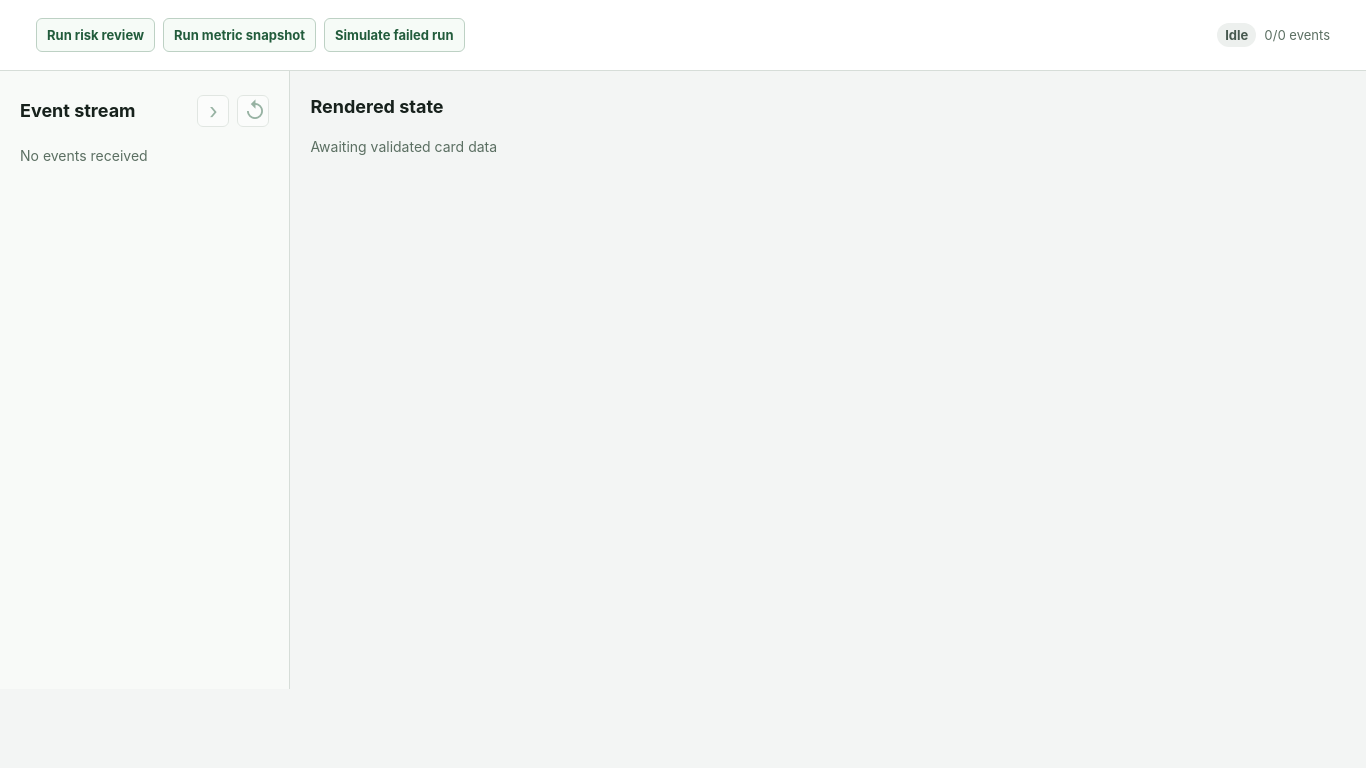
it: StreamConsole › shows completed and failed terminal states
Click the button "Run metric snapshot" at (240, 35), box [163,18,316,52]
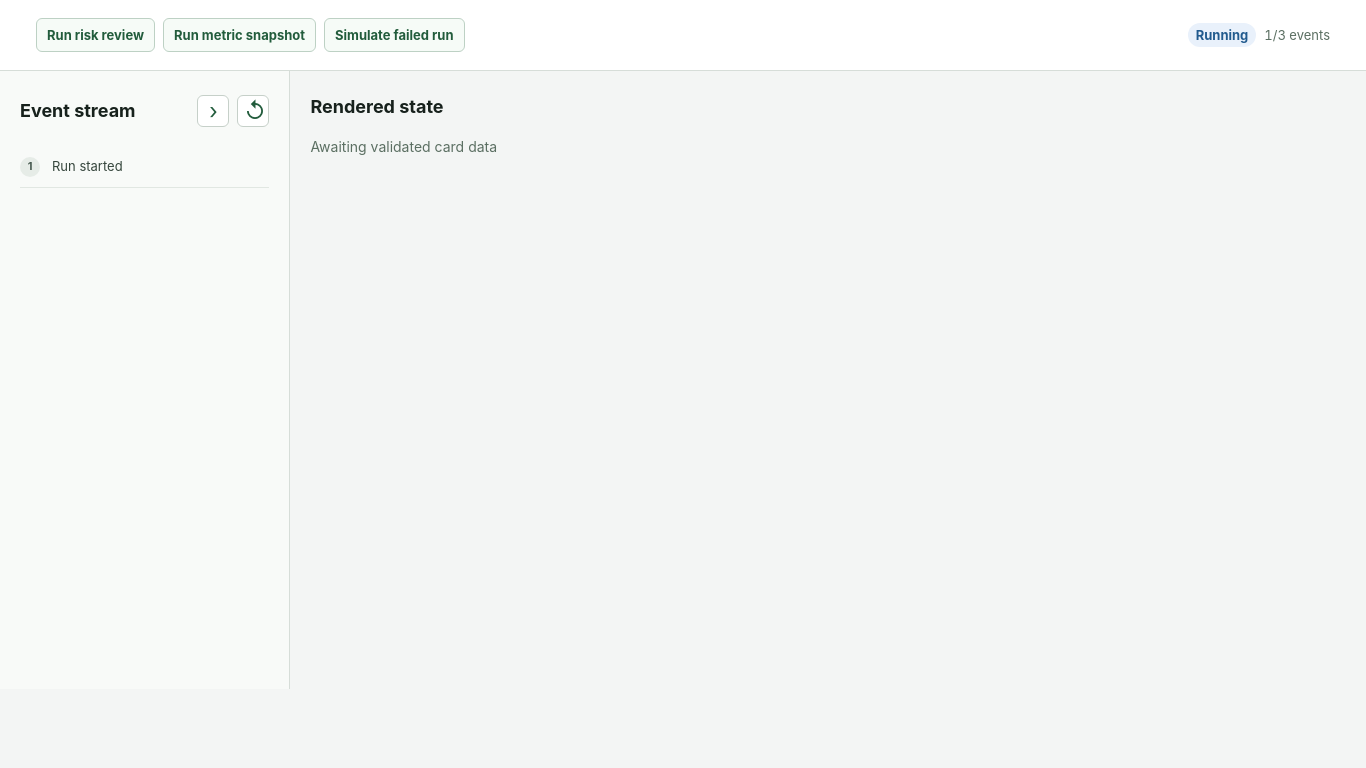
Click the button named "Apply next event" at (213, 111), box [197,95,229,127]
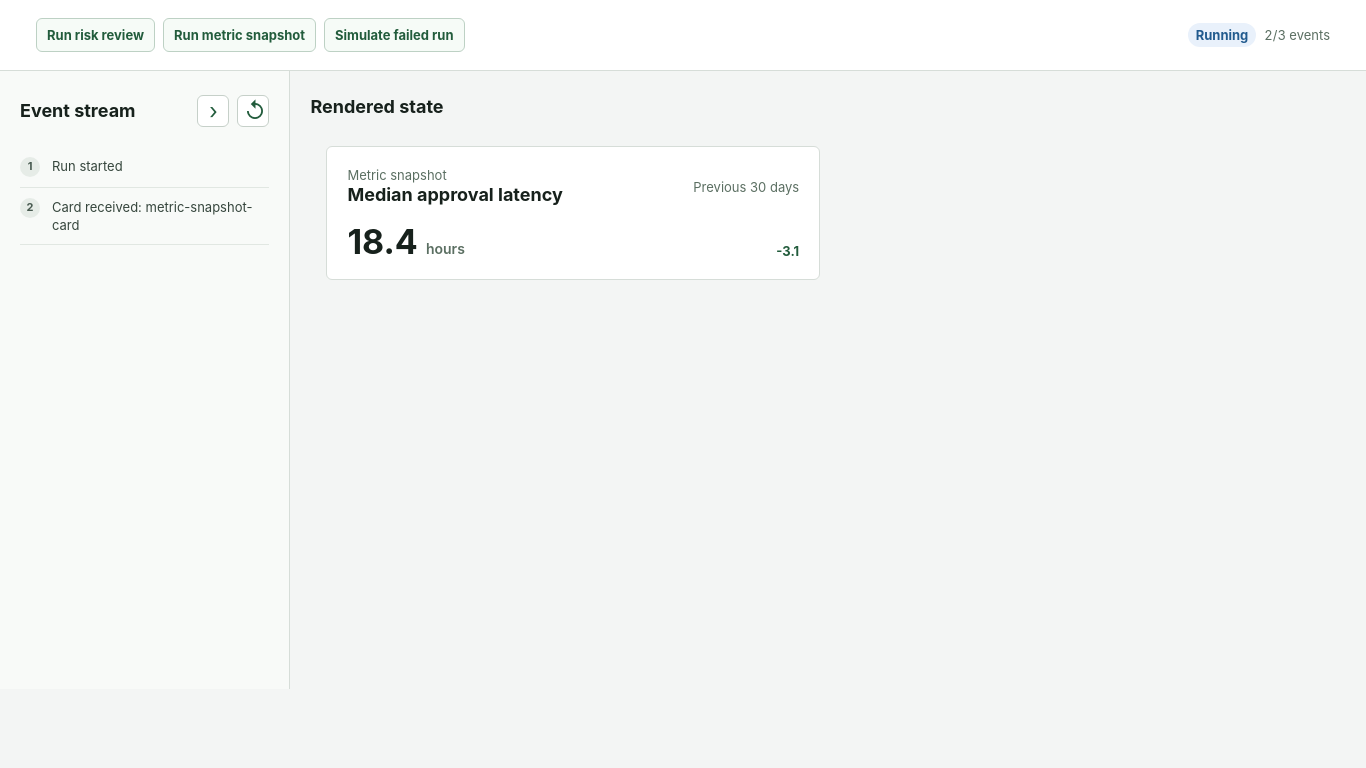
Click the button named "Apply next event" at (213, 111), box [197,95,229,127]
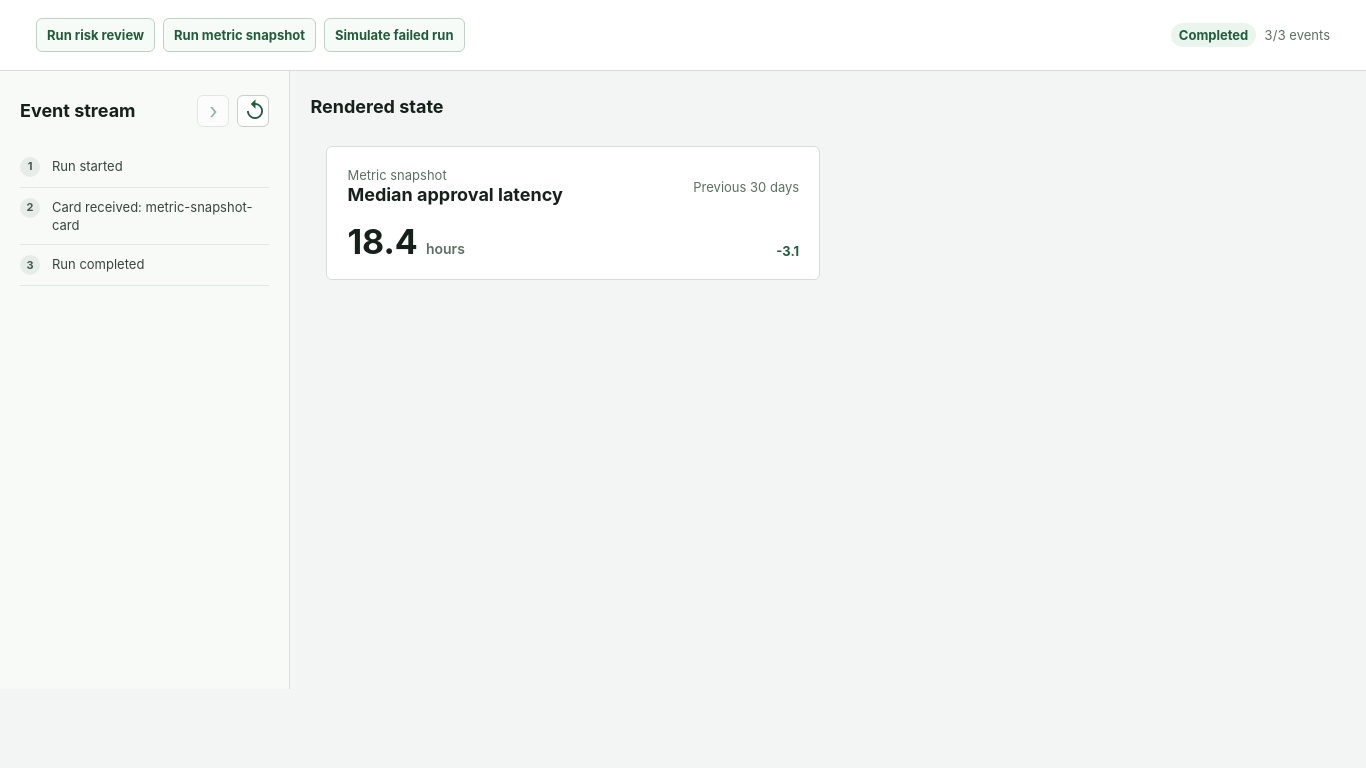
Expected: the text "completed" is shown, [1171,23,1256,47]
Click the button "Simulate failed run" at (394, 35), box [324,18,464,52]
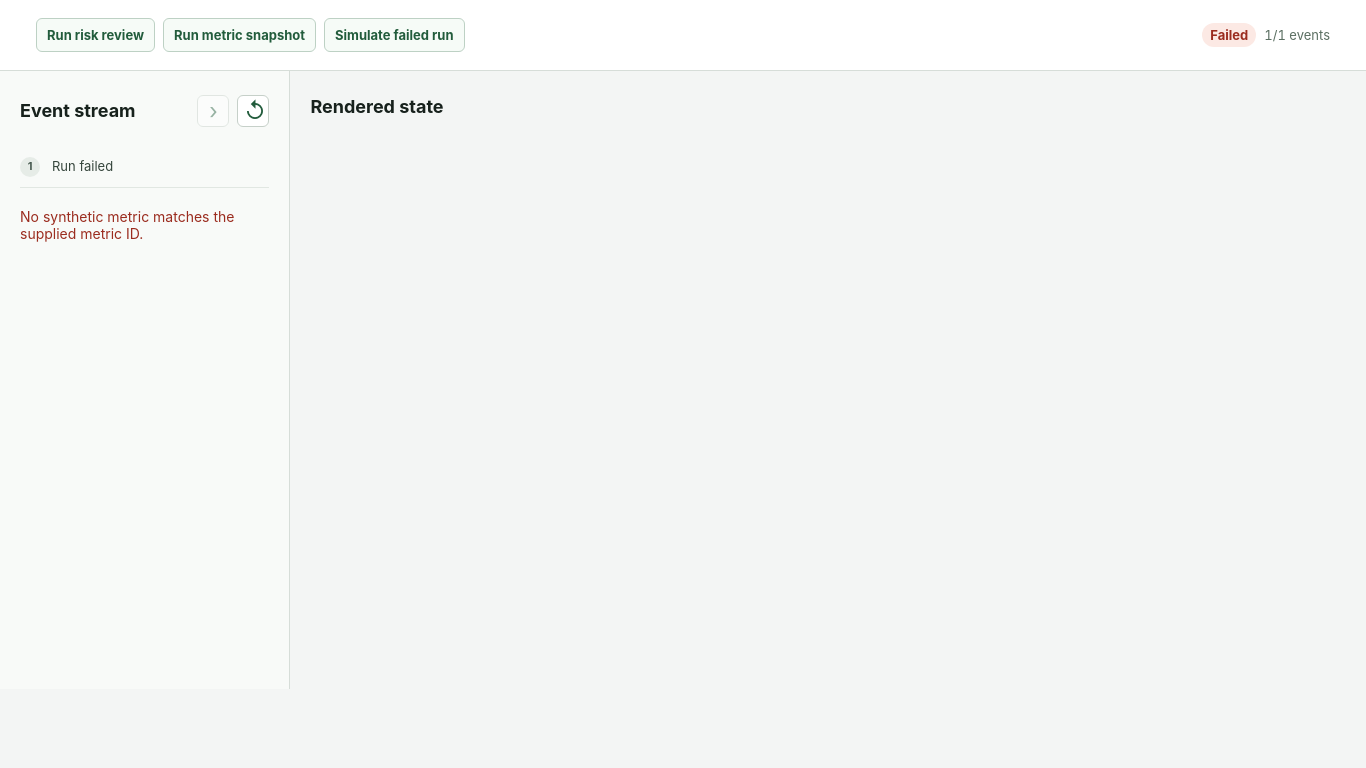
Expected: the text "failed" is shown, [1202,23,1256,47]
Expected: the text "No synthetic metric matches the supplied metric ID." is shown, [20,208,269,242]
